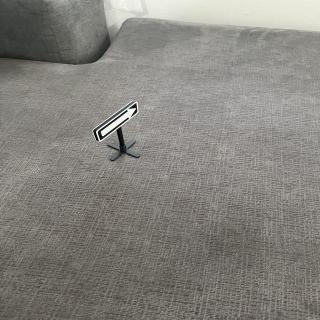sign_oneway_right: (93, 100, 144, 144)
